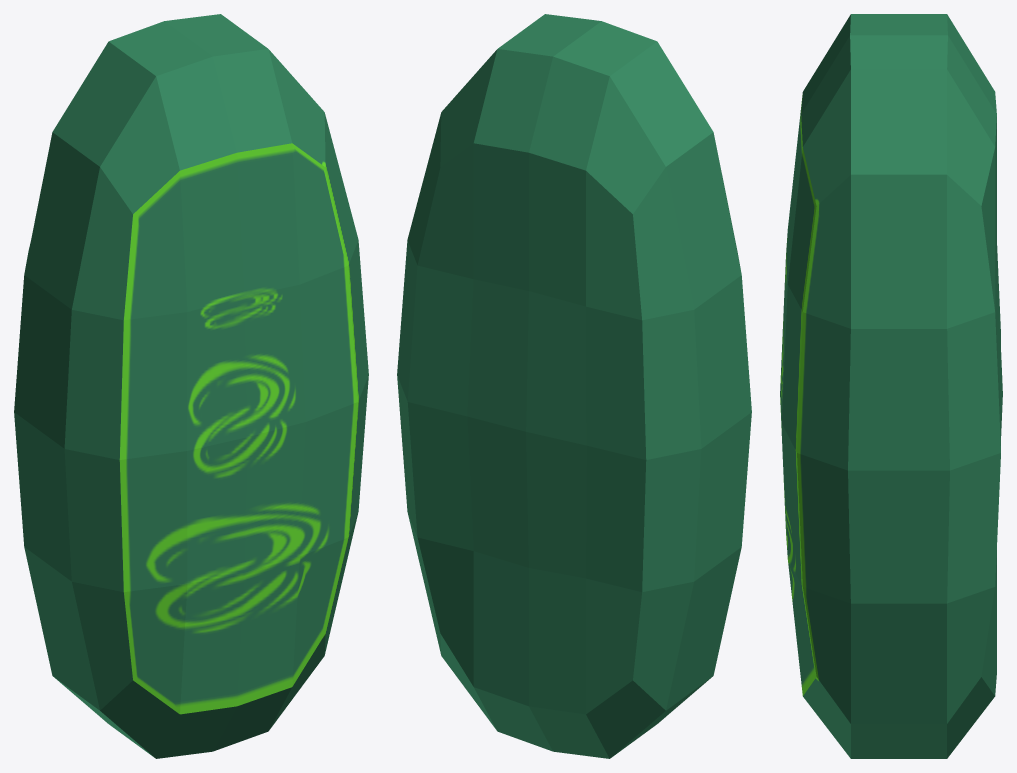
The model's file is A3_Rune.fbx.
The picture shows the model from 3 angles, left to right: view 1: azimuth 30°, elevation 25°; view 2: azimuth 150°, elevation 25°; view 3: azimuth 270°, elevation 25°; orthographic projection.
Parts seen in each view (by area): view 1: A3_Rune; view 2: A3_Rune; view 3: A3_Rune.
Part boxes in pixels (<box>): A3_Rune: <box>14,14,368,758</box>; A3_Rune: <box>397,14,751,758</box>; A3_Rune: <box>780,14,1002,758</box>.
Bounding box in the file's own units: 96.77 × 211 × 60.78.
1 material, 1 textured.
